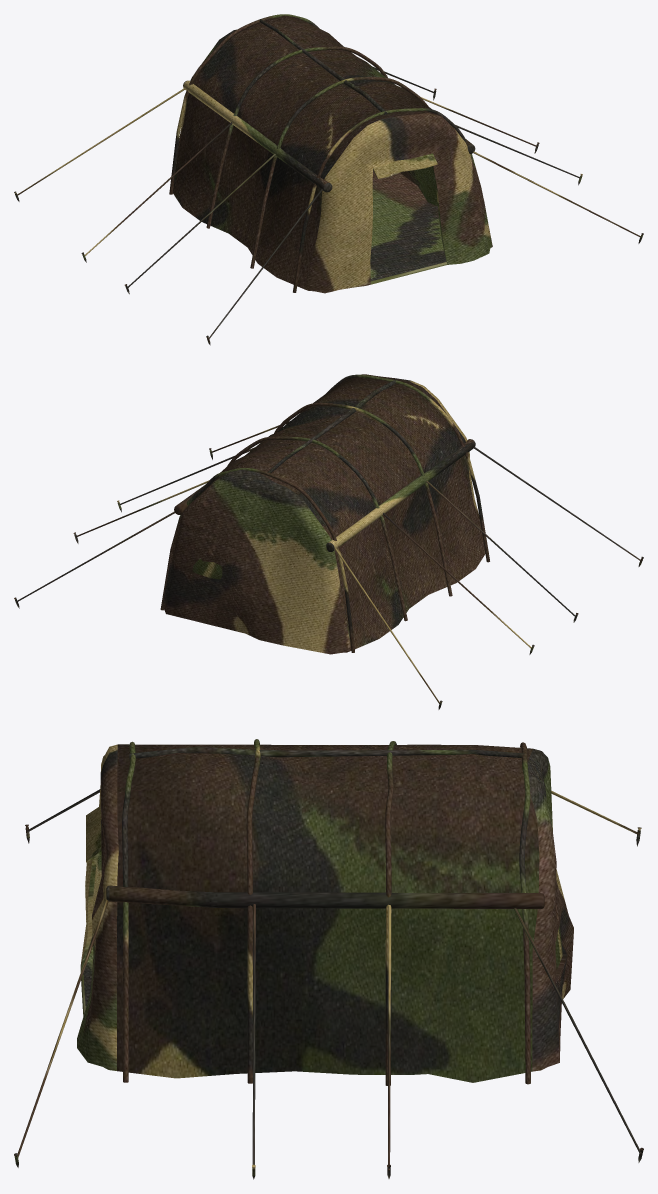
The model's file is palatka.fbx.
3 renders of one model, top to bottom at view 1: azimuth 30°, elevation 25°; view 2: azimuth 150°, elevation 25°; view 3: azimuth 270°, elevation 25°, orthographic. The views are drawn at different scales.
Visible parts, largest first — view 1: NurbsPath.003; view 2: NurbsPath.003; view 3: NurbsPath.003.
Boxes of the visible parts, x1,y1,x2,y2 form: NurbsPath.003: (14,14,643,345); NurbsPath.003: (14,374,643,709); NurbsPath.003: (14,739,643,1179).
Bounding box in the file's own units: 1185 × 413 × 904.
Materials: 1 (1 with a texture image).
